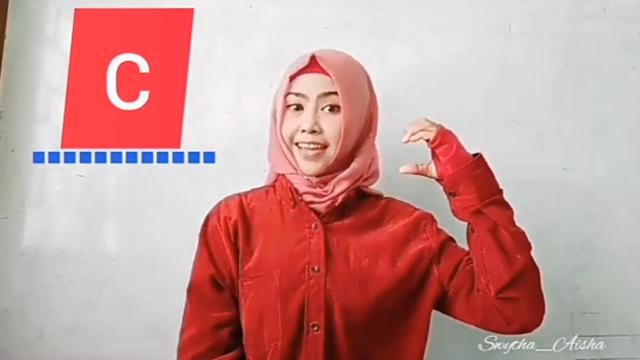C: (400, 112, 468, 184)
